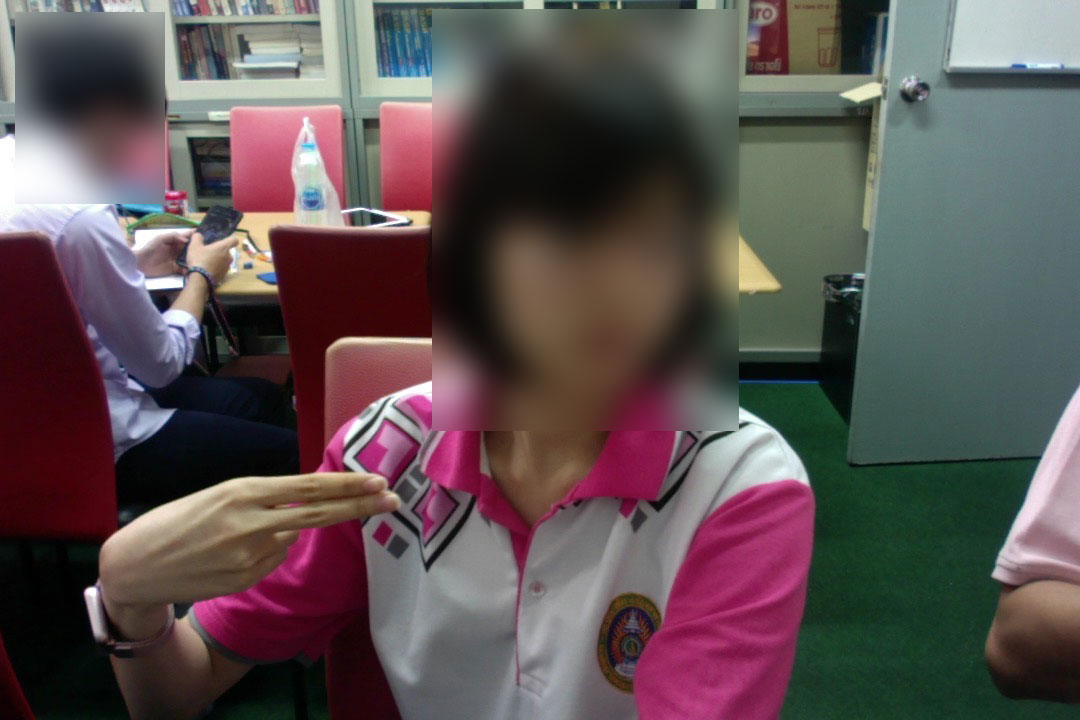hor: (86, 460, 412, 610)
